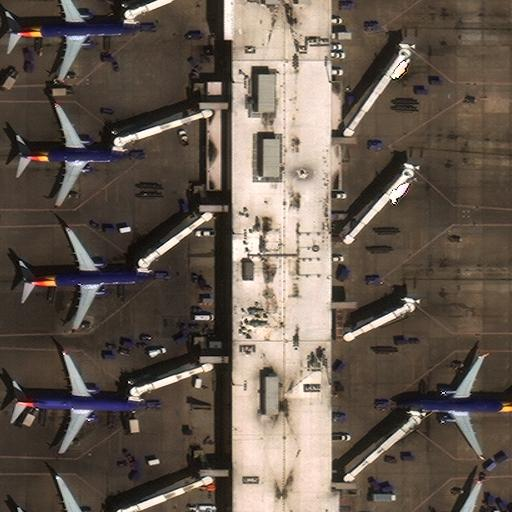Medium Civil Transport: (23, 228, 153, 329), (15, 352, 146, 452), (397, 356, 512, 458), (18, 104, 131, 205), (8, 0, 139, 80), (32, 476, 109, 512), (439, 481, 510, 512)
